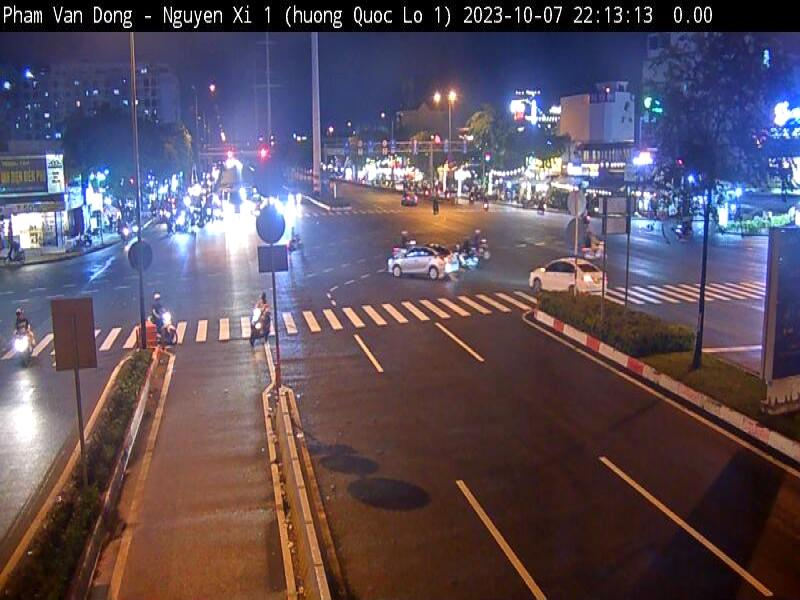car: (528, 257, 610, 296), (387, 243, 460, 278)
